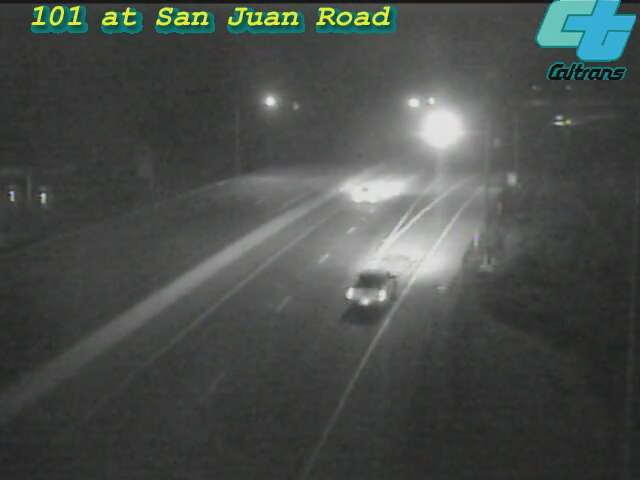vehicle: (327, 153, 407, 233), (324, 259, 404, 339), (415, 105, 465, 155), (542, 94, 592, 144)
